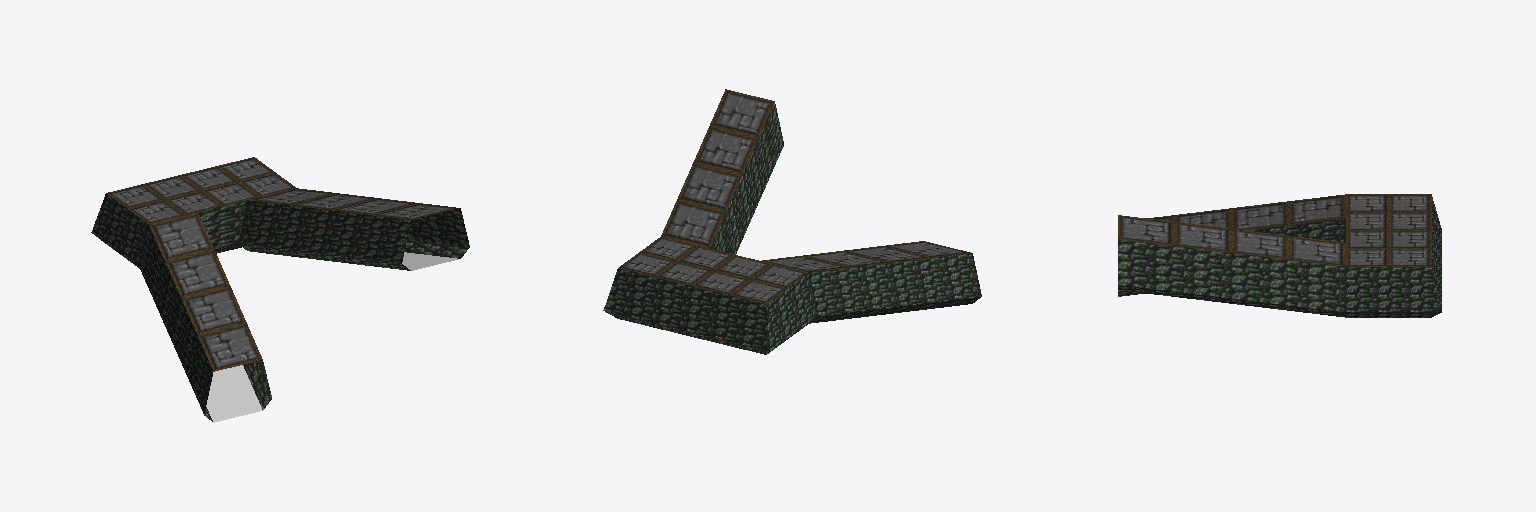
3 views of the same model, side by side, from view 1: azimuth 30°, elevation 25°; view 2: azimuth 150°, elevation 25°; view 3: azimuth 270°, elevation 25° (orthographic).
Visible parts, largest first — view 1: model63243-node_model63243; view 2: model63243-node_model63243; view 3: model63243-node_model63243.
Part boxes in pixels (left/top/right/bottom): model63243-node_model63243: left=91, top=157, right=469, bottom=422; model63243-node_model63243: left=603, top=89, right=981, bottom=354; model63243-node_model63243: left=1118, top=194, right=1441, bottom=317.
Size of the model in its own units: 17.2 by 9.55 by 18.2.
Materials: 3 (2 with a texture image).